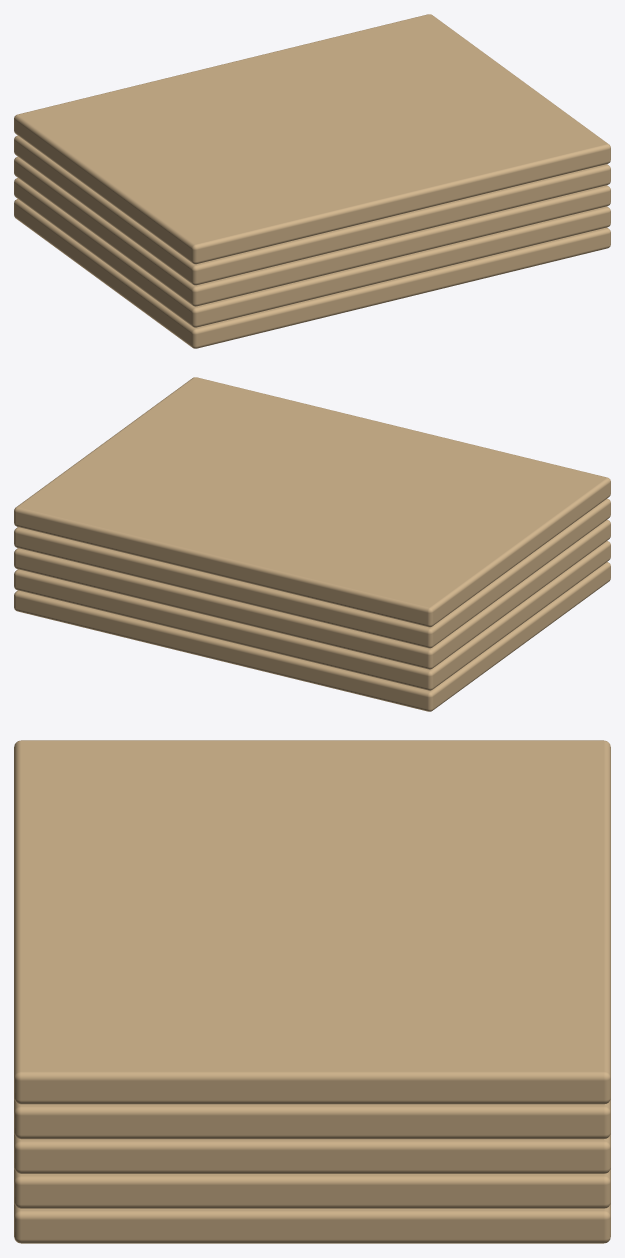
File: bookbinding-and-paper-mill-press-drying-boards-82084457__30558.glb
3 renders of one model, top to bottom at view 1: azimuth 30°, elevation 25°; view 2: azimuth 150°, elevation 25°; view 3: azimuth 270°, elevation 25°, orthographic. The views are drawn at different scales.
Parts seen in each view (by area): view 1: press-drying-boards; view 2: press-drying-boards; view 3: press-drying-boards.
Part boxes in pixels (x1=…): press-drying-boards: x1=14, y1=14, x2=610, y2=348; press-drying-boards: x1=14, y1=377, x2=610, y2=711; press-drying-boards: x1=14, y1=740, x2=610, y2=1243.
Size of the model in its own units: 0.56 by 0.133 by 0.42.
